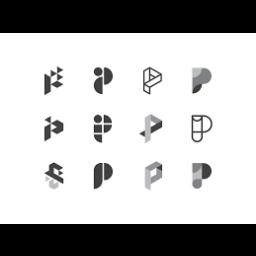p: (141, 157, 169, 193), (137, 110, 165, 144), (189, 160, 217, 194), (88, 60, 114, 96), (90, 110, 116, 146), (90, 156, 116, 192), (140, 64, 166, 98), (189, 111, 215, 145), (189, 64, 215, 96), (42, 112, 64, 146)
